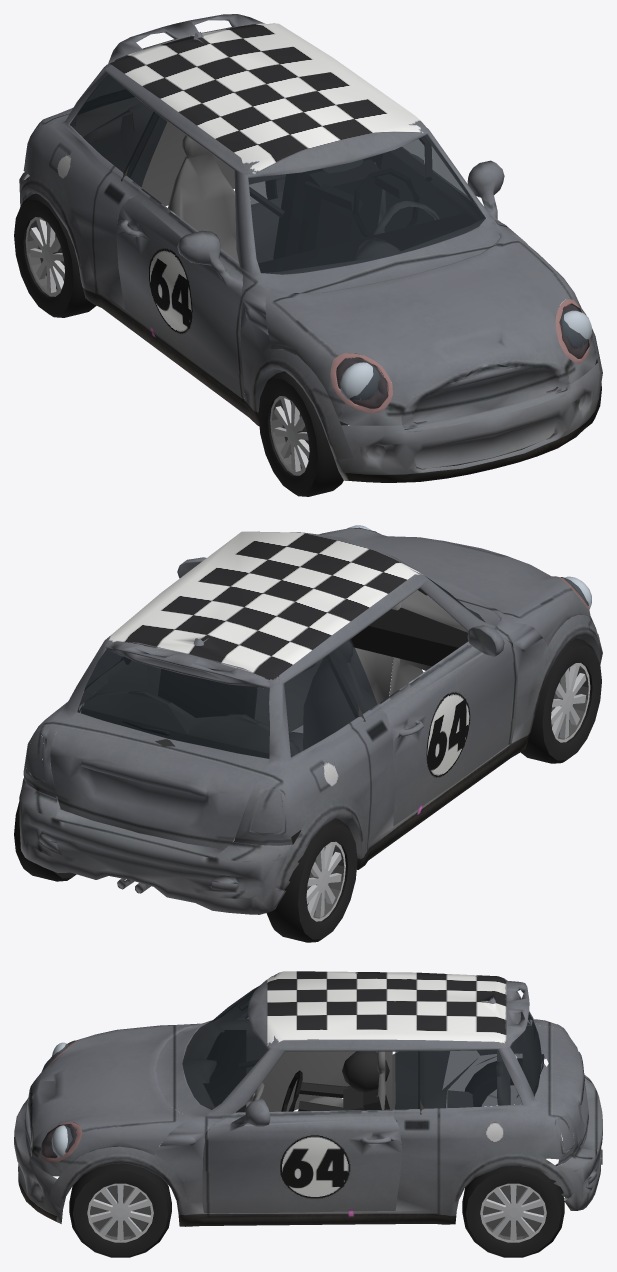
3 views of the same model, one above another, from view 1: azimuth 30°, elevation 25°; view 2: azimuth 150°, elevation 25°; view 3: azimuth 270°, elevation 25° (orthographic). The views are drawn at different scales.
Visible parts, largest first — view 1: body, wheel_fr, wheel_rr; view 2: body, wheel_rr, wheel_fr, wheel_rl; view 3: body, wheel_fl, wheel_rl, wheel_rr.
Boxes of the visible parts, x1=… form: body: x1=19, y1=14, x2=602, y2=482; wheel_fr: x1=258, y1=371, x2=348, y2=496; wheel_rr: x1=14, y1=193, x2=96, y2=317; body: x1=19, y1=525, x2=602, y2=914; wheel_rr: x1=266, y1=818, x2=357, y2=942; wheel_fr: x1=521, y1=638, x2=601, y2=763; wheel_rl: x1=14, y1=760, x2=76, y2=881; body: x1=14, y1=971, x2=602, y2=1226; wheel_fl: x1=69, y1=1163, x2=171, y2=1257; wheel_rl: x1=462, y1=1166, x2=564, y2=1257; wheel_rr: x1=465, y1=1058, x2=537, y2=1106.
Size of the model in its own units: 1.87 by 1.43 by 3.7.
Materials: 3 (2 with a texture image).
